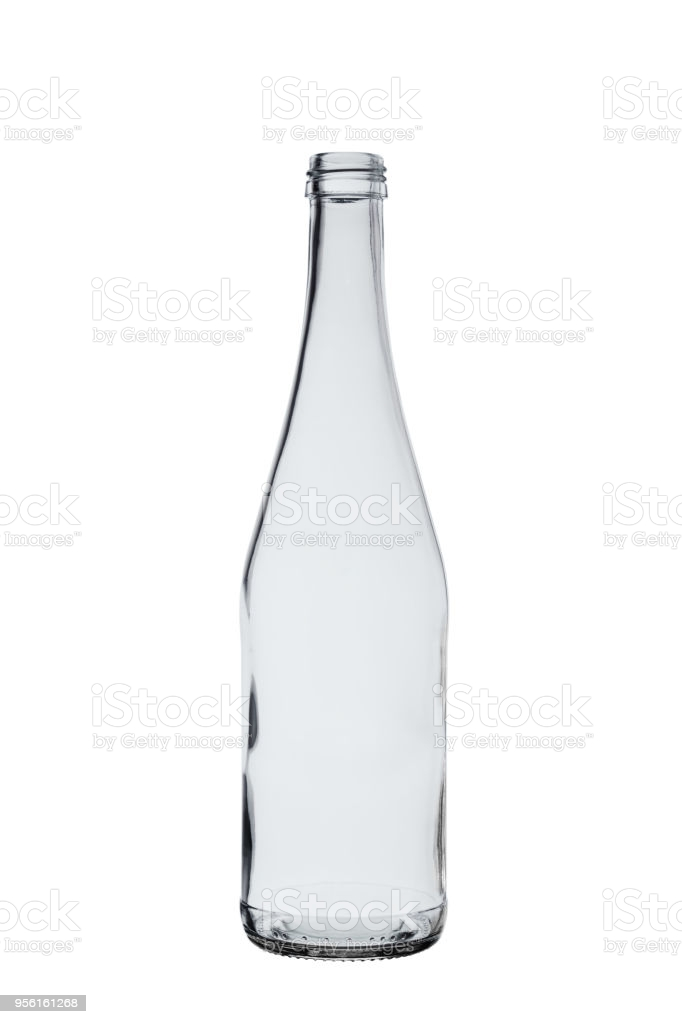glass_bottle: (231, 146, 467, 970)
